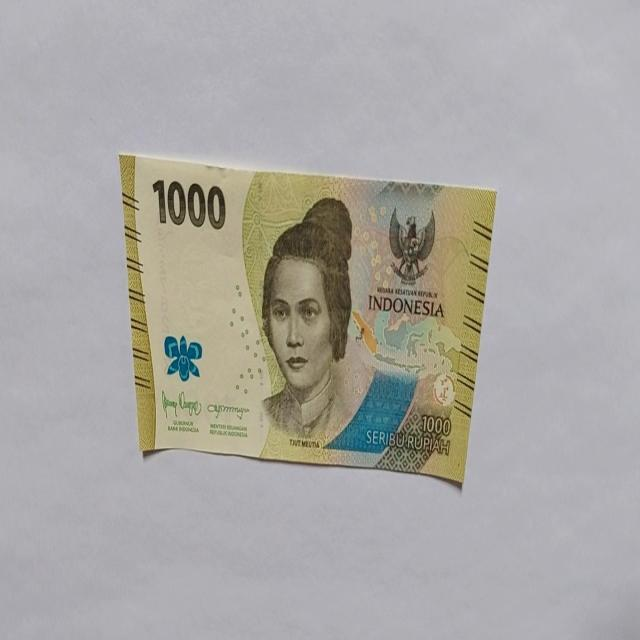seribu rupiah kertas: (119, 151, 496, 486)
